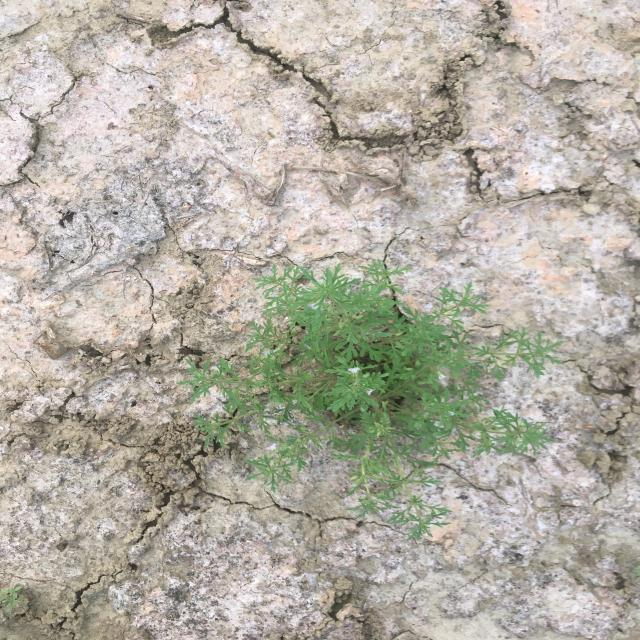Ragweed: (174, 258, 566, 541)
